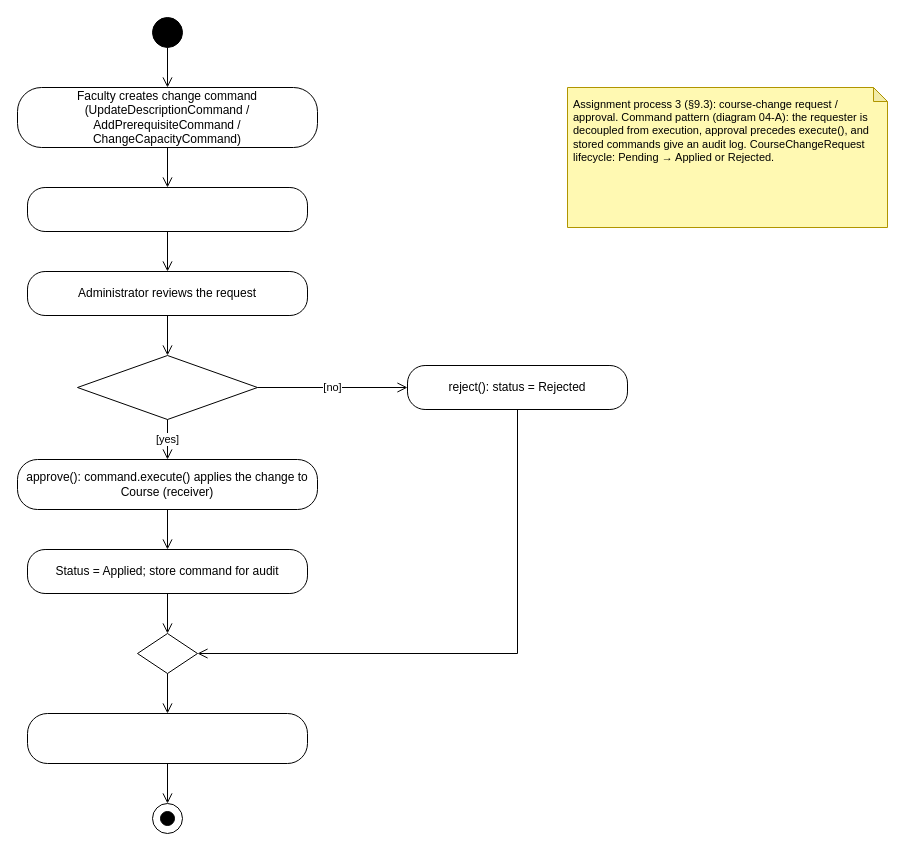
Image size: 905x851. Some labels were removed from this diagram. The box of each missing label's shape, as (x1, y1, x2, y2) in pixels:
approved?: (76, 354, 258, 420)
Notify Faculty of the decision (event → Notification Service): (26, 712, 308, 764)
Submit CourseChangeRequest — status = Pending: (26, 186, 308, 232)
